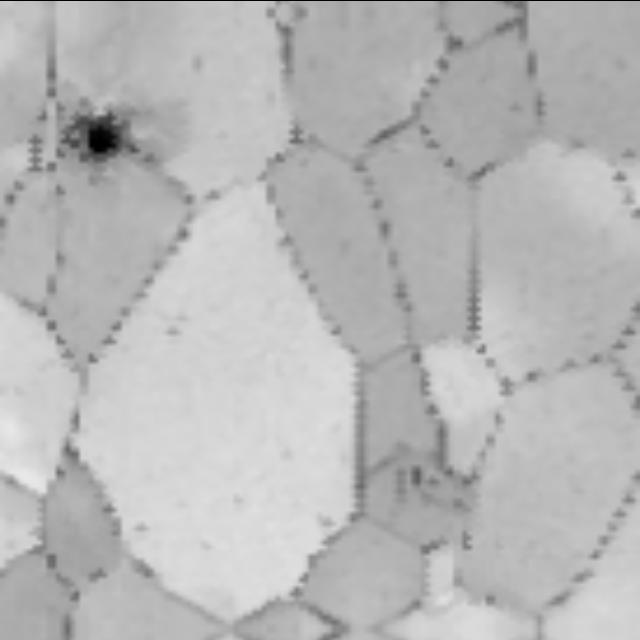good_void: (45, 84, 190, 179), (392, 462, 440, 507), (156, 310, 194, 339)
